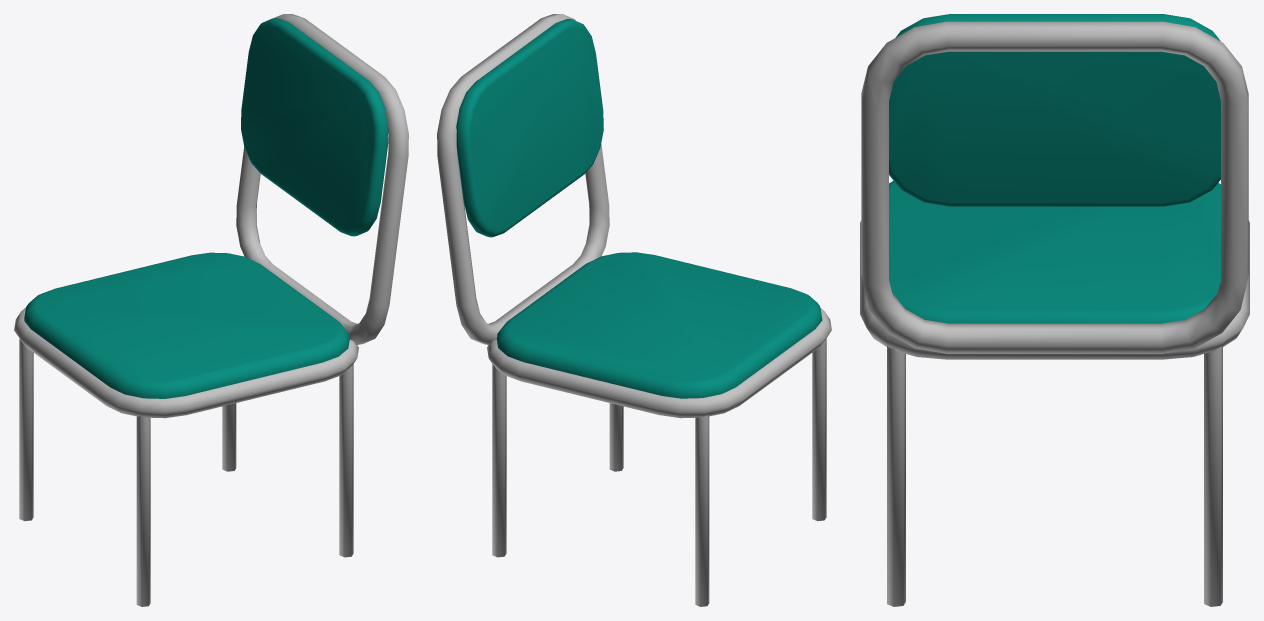
Rendered from Chair03.fbx.
3 views of the same model, side by side, from view 1: azimuth 30°, elevation 25°; view 2: azimuth 150°, elevation 25°; view 3: azimuth 270°, elevation 25° (orthographic). The views are drawn at different scales.
Visible parts, largest first — view 1: Chair03; view 2: Chair03; view 3: Chair03.
Part boxes in pixels (x1,y1,x2,y2): Chair03: (14,14,408,606); Chair03: (437,14,831,606); Chair03: (860,14,1249,606).
Bounding box in the file's own units: 0.4512 × 0.3936 × 0.6826.
